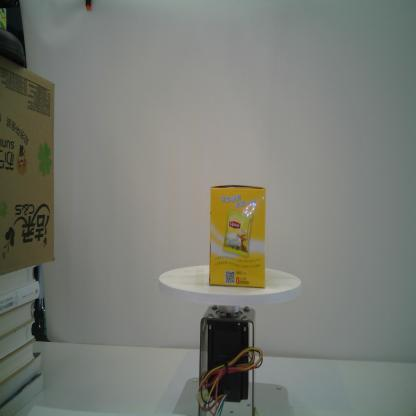Instant Drink: (207, 183, 267, 292)
